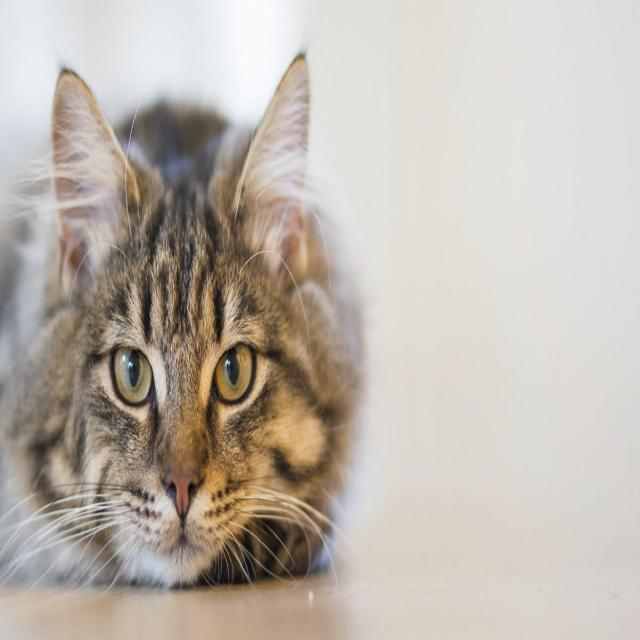cat: (1, 54, 363, 587)
